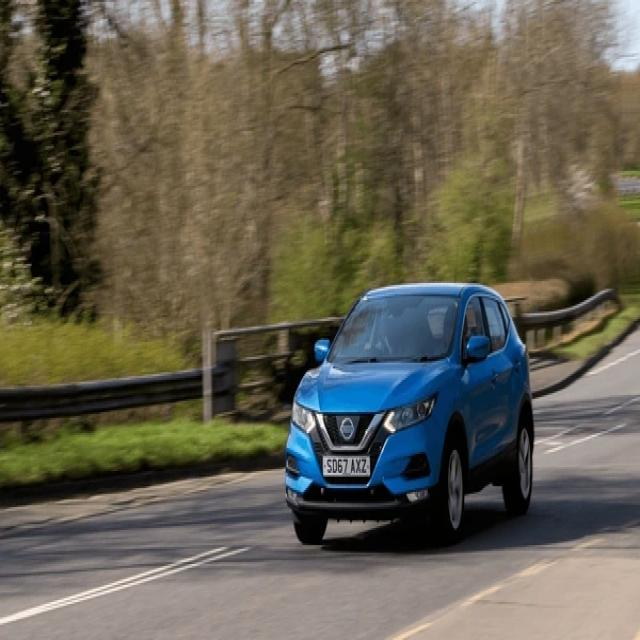nissan: (339, 416, 356, 444)
